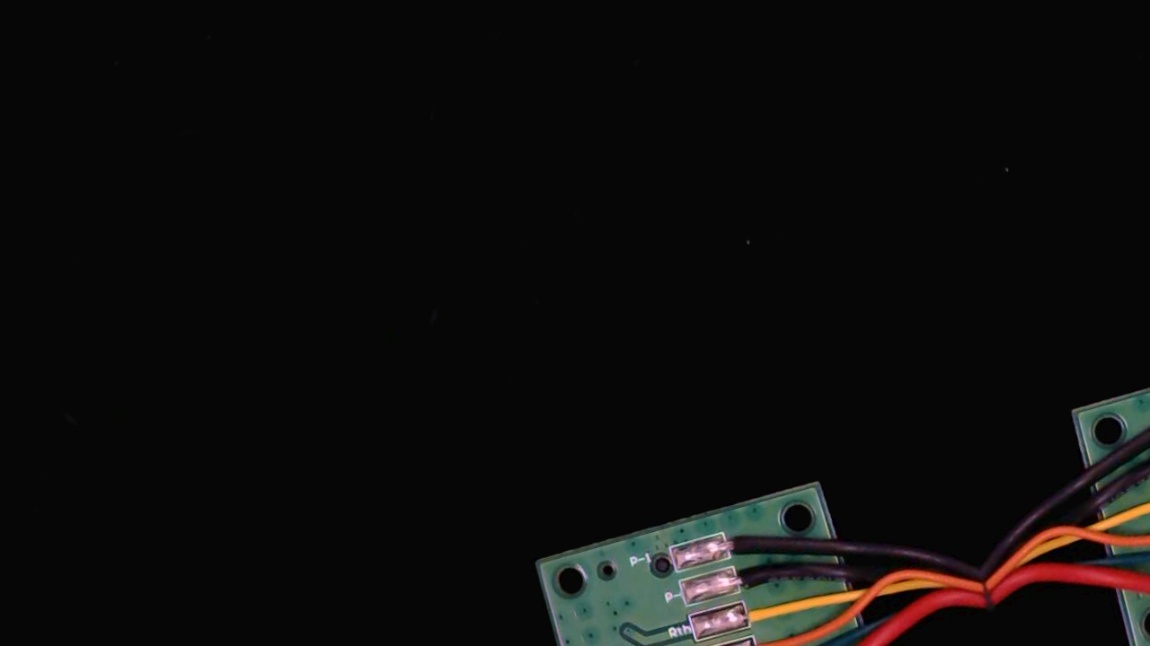Black: (719, 555, 780, 597)
Black1: (706, 518, 772, 563), (1138, 397, 1150, 441)
Orange: (737, 622, 807, 646)
Yellow: (730, 586, 802, 633), (1148, 468, 1150, 516)
